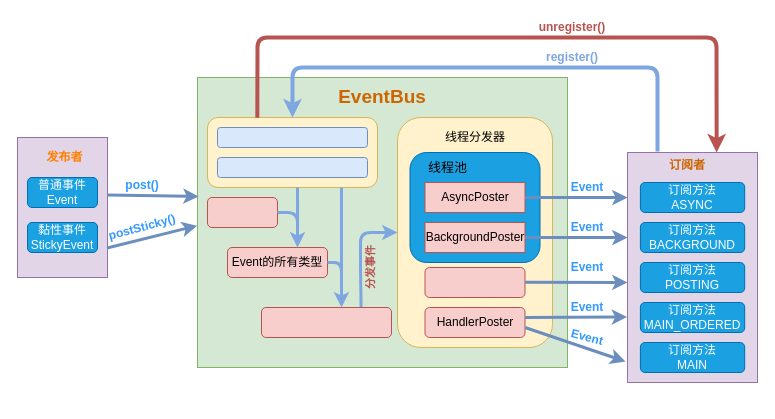
The diagram is 775 pixels wide and 419 high, and some of its shapes have lost their labels. The shapes that lost their labels are listed below. From the top down, each one's box as (x1, y1, x2, y2) in pixels, then its label:
(216, 126, 368, 148): subscriptionsByEventType
(216, 156, 368, 178): typesBySubscriber
(206, 196, 278, 228): Event对象
(424, 266, 525, 298): 当前线程执行
(260, 306, 392, 338): Event的所有订阅方法
